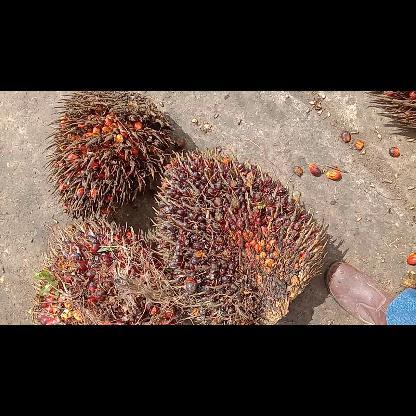Kurang masak: (154, 148, 330, 324)
TBS masak: (33, 222, 184, 324)
Terlalu masak: (48, 91, 184, 221)
